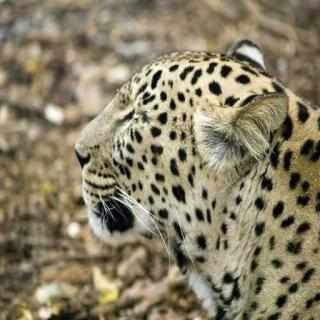Leopard: (71, 34, 320, 320)
